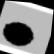correct: (0, 17, 40, 52)
